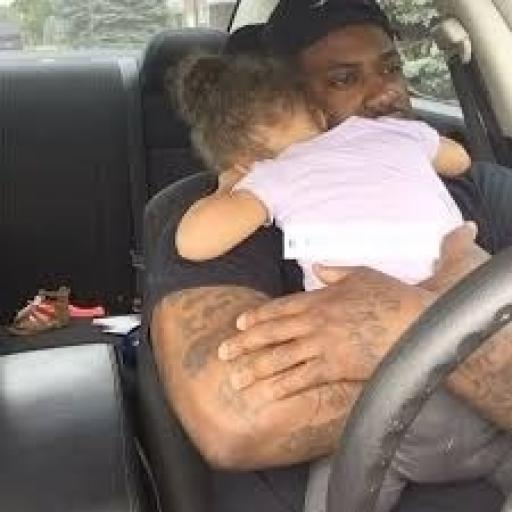hugging: (143, 0, 510, 510)
